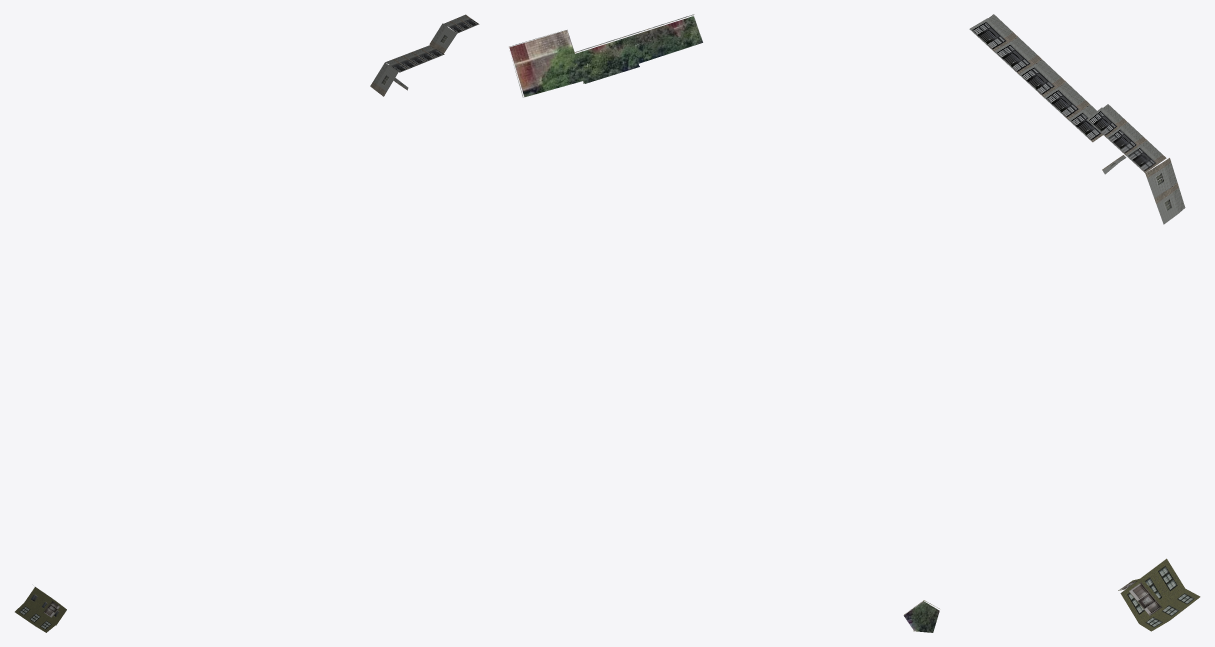
File: tile_LOD4_r9_c13.glb
The picture shows the model from 3 angles, left to right: view 1: azimuth 30°, elevation 25°; view 2: azimuth 150°, elevation 25°; view 3: azimuth 270°, elevation 25°; orthographic projection. The views are drawn at different scales.
Bounding box in the file's own units: 132 × 149 × 37.5.
Materials: 10 (10 with a texture image).
